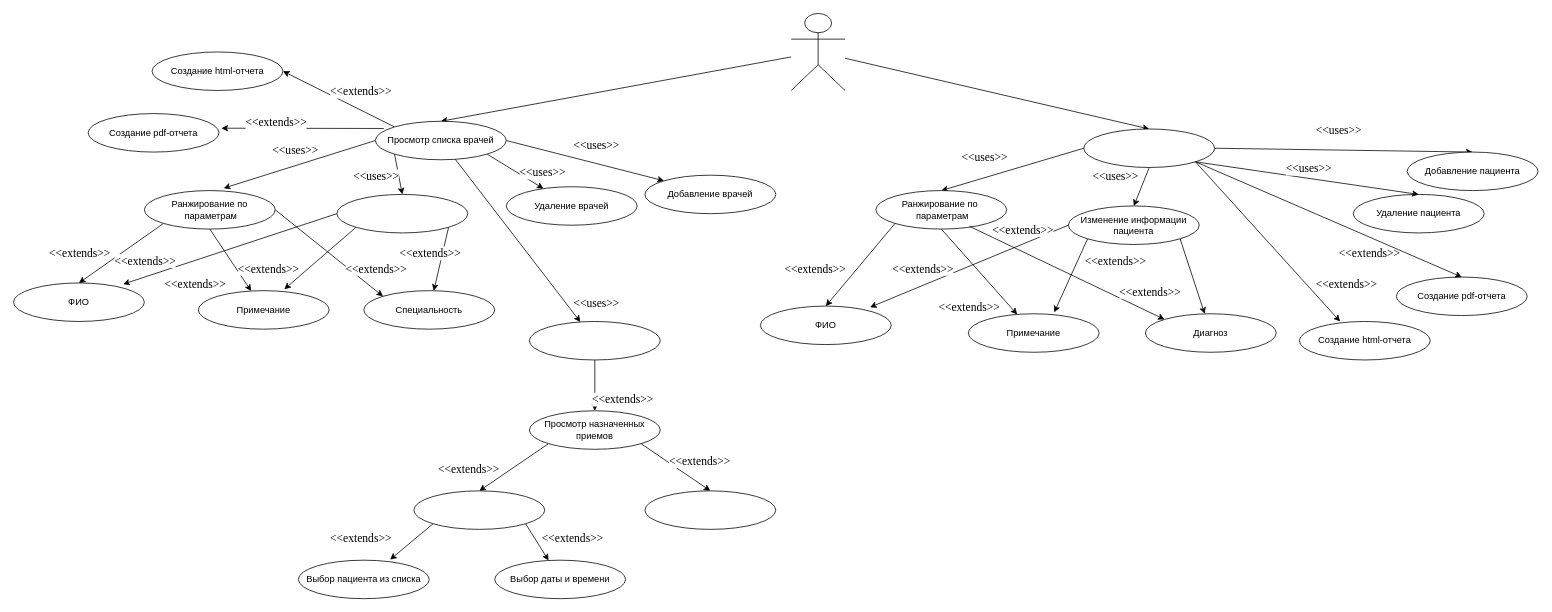
This 1552x612 diagram has some shape labels left out. Each missing label, with the centre of its shape:
Изменение информации врача: the point at 402,213
Назначение новых приемов: the point at 479,509
Просмотр личной карточки врача: the point at 594,340
Просмотр списка пациентов: the point at 1149,147
Сотрудник регистратуры: the point at 817,51
Удаление назначенных приемов: the point at 710,509
